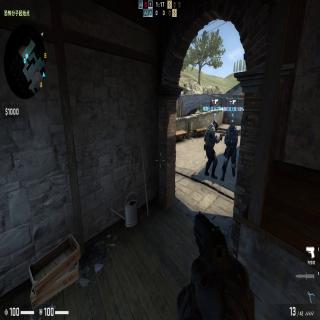CT-Body: (221, 120, 239, 184), (203, 120, 219, 180)
CT-Head: (229, 119, 235, 132), (213, 120, 219, 129)
